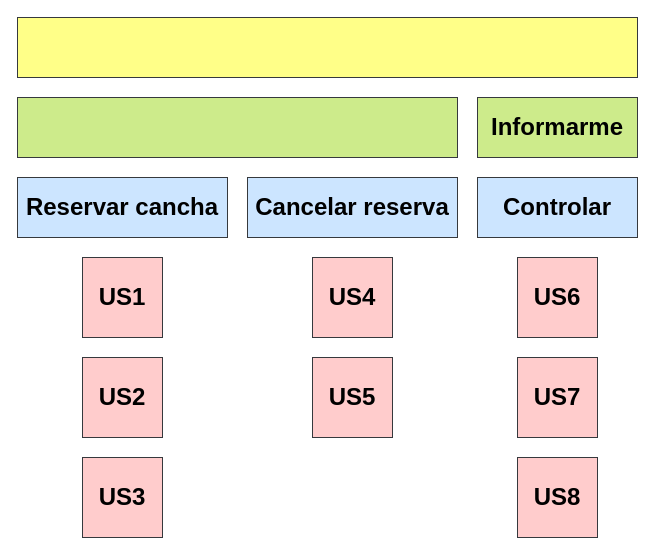
The diagram is 655 pixels wide and 555 high, and some of its shapes have lost their labels. The centre of each missing label's shape, as x and y in pixels:
Deportista: (327,47)
Interactuar con el club: (237,127)
